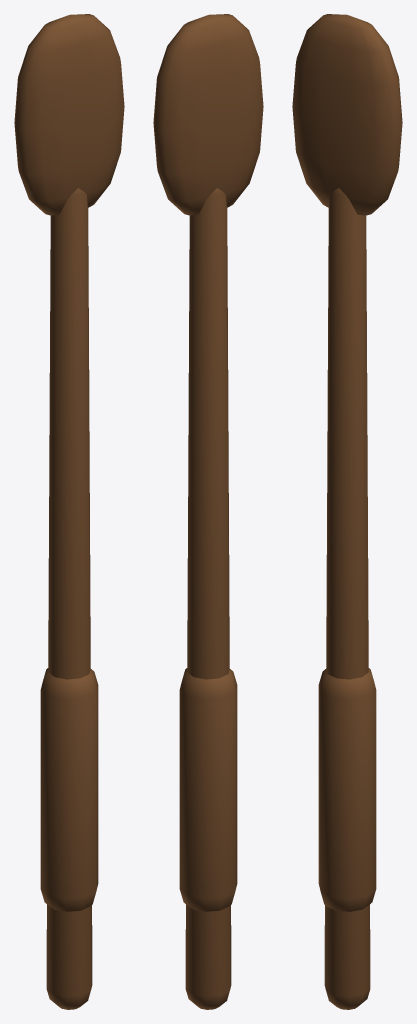
Rendered from spoon.glb.
3 views of the same model, side by side, from view 1: azimuth 30°, elevation 25°; view 2: azimuth 210°, elevation 25°; view 3: azimuth 330°, elevation 25° (orthographic).
Visible parts, largest first — view 1: wood; view 2: wood; view 3: wood.
Part boxes in pixels (left/top/right/bottom): wood: left=14, top=14, right=124, bottom=1009; wood: left=153, top=14, right=263, bottom=1009; wood: left=292, top=14, right=402, bottom=1009.
Size of the model in its own units: 0.17 by 1.49 by 0.08.
